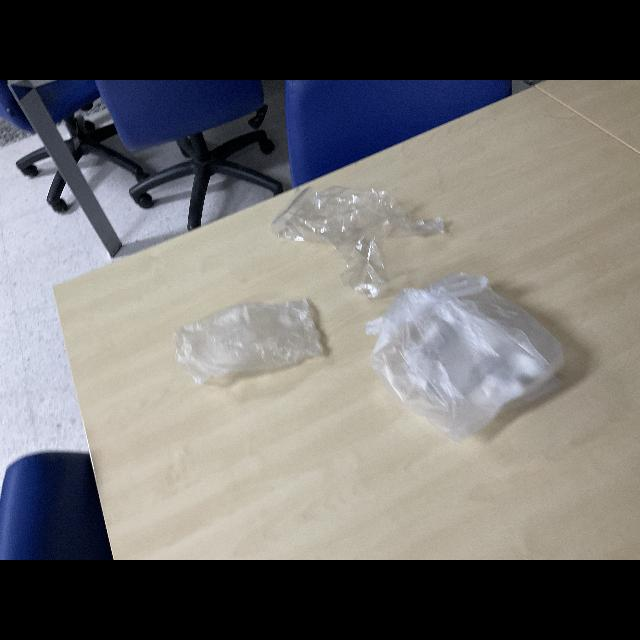plastic_bag: (366, 274, 570, 442)
scrap_plastic: (264, 169, 472, 299), (170, 291, 334, 395)
